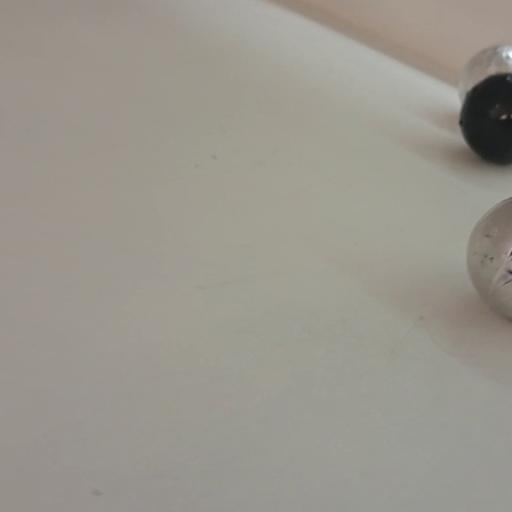alive: (463, 191, 512, 322), (458, 44, 510, 103)
dead: (458, 73, 512, 162)
